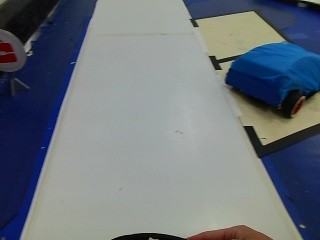car: (216, 37, 318, 124)
